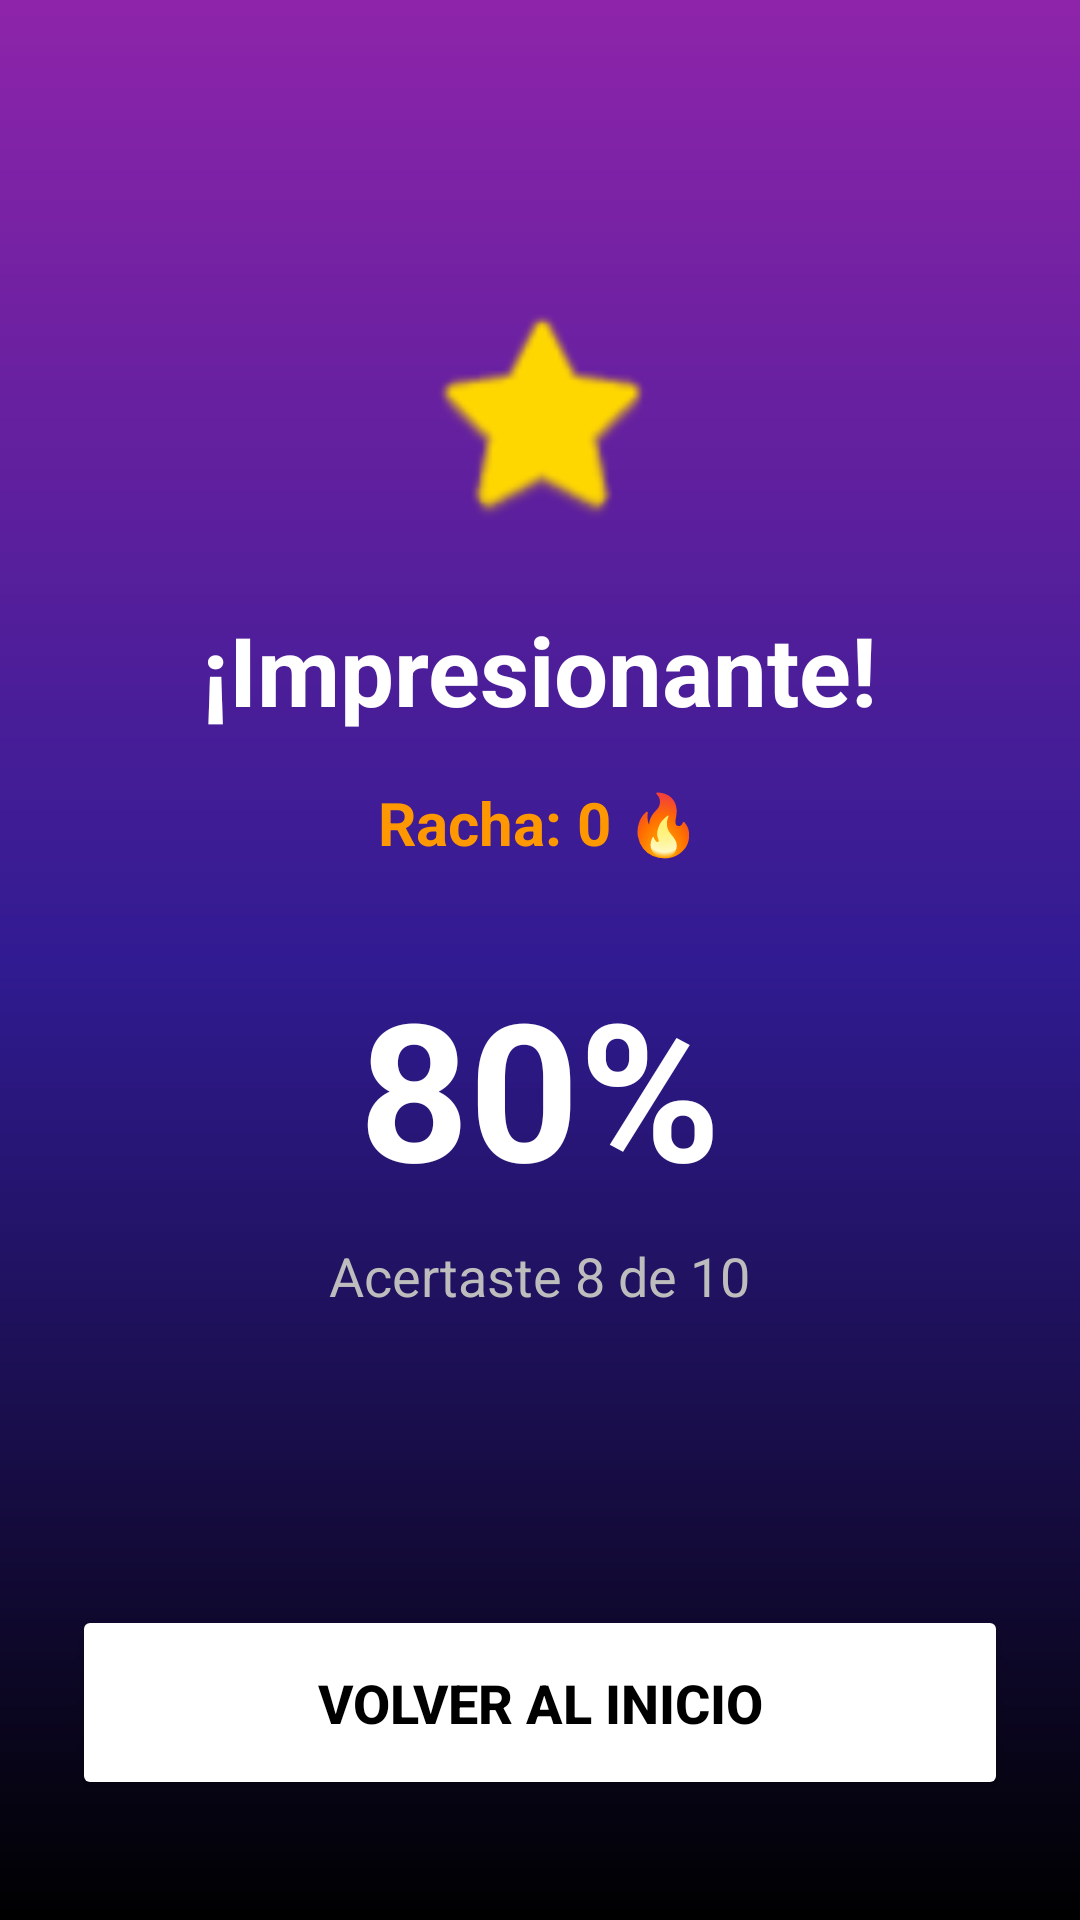

Icons on this 1080w x 1920h Android screen, each with its box as (x1, y1, x2, y2):
star on: (441, 314, 643, 512)
